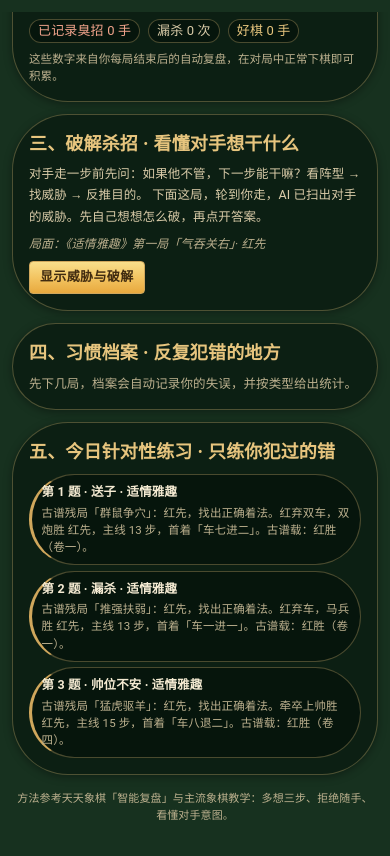
Test: H3 习惯档案页 › 无失误记录时给空态，并用题库补足三道练习
(page scrolled)
Expected: the text with test id "habit-archive-empty" shows "先下几局", [29,376,357,391]
Click the button with test id "habit-drill-item": (195, 520) [29,474,361,565]
(page scrolled)
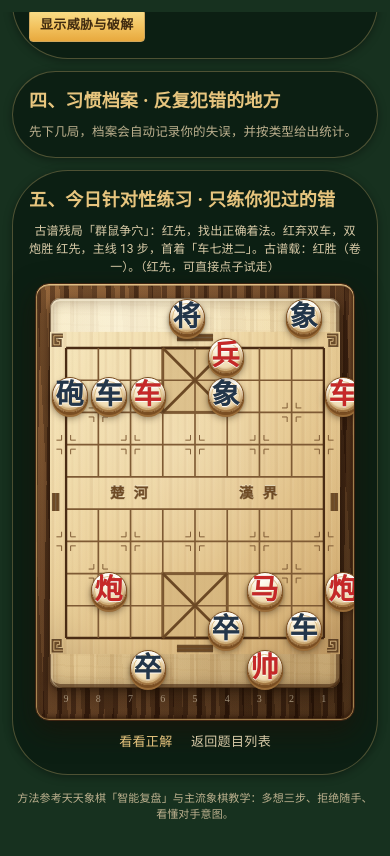
Result: the element with test id "habit-drill-session" is shown at [29,222,361,758]
Click the button "看看正解": (146, 743) [114,727,178,758]
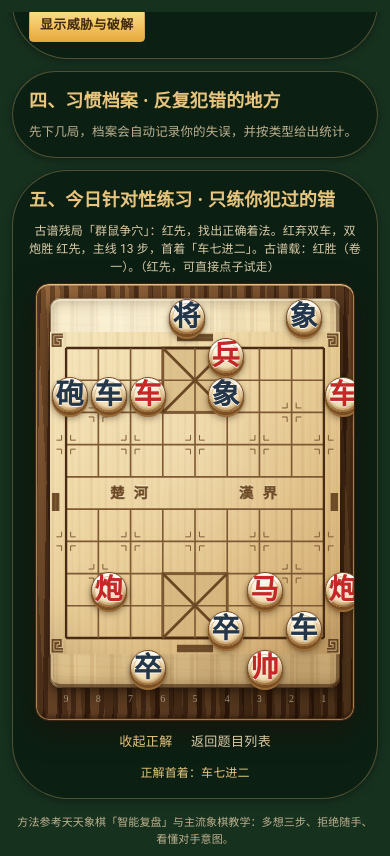
Result: the text "正解首着：车七进二" is shown at [140,764,250,782]
